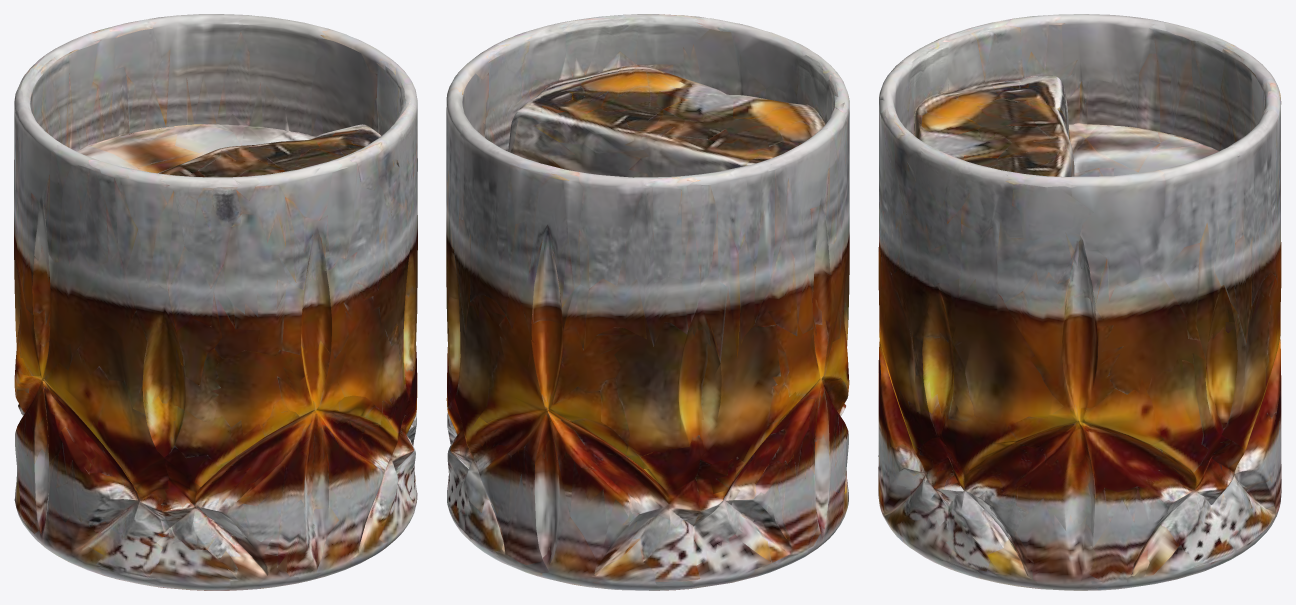
Rendered from night-ferry-lite.glb.
The picture shows the model from 3 angles, left to right: view 1: azimuth 30°, elevation 25°; view 2: azimuth 150°, elevation 25°; view 3: azimuth 270°, elevation 25°; orthographic projection.
Parts seen in each view (by area): view 1: Mesh_0; view 2: Mesh_0; view 3: Mesh_0.
Boxes of the visible parts, bbox=[...] form: Mesh_0: bbox=[14, 14, 417, 590]; Mesh_0: bbox=[446, 14, 849, 590]; Mesh_0: bbox=[878, 14, 1281, 590].
Bounding box in the file's own units: 1.67 × 1.9 × 1.67.
1 material, 1 textured.
